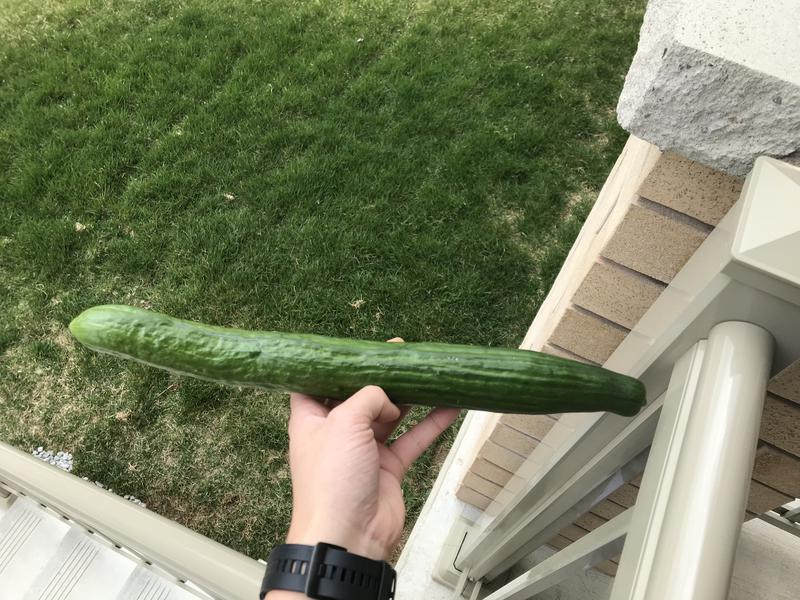cucumber: (58, 294, 662, 429)
